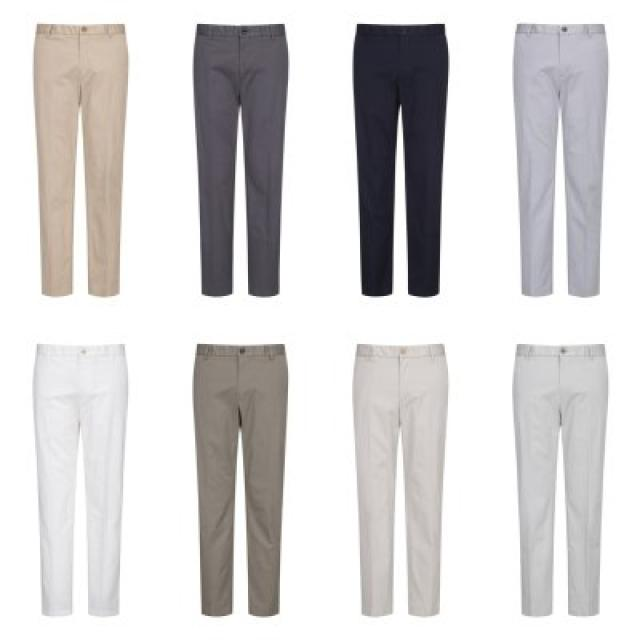pants: (187, 19, 294, 300), (27, 20, 132, 298), (351, 18, 454, 298), (511, 20, 612, 302), (349, 342, 449, 620), (192, 340, 291, 618), (512, 340, 609, 618), (32, 340, 129, 617)
